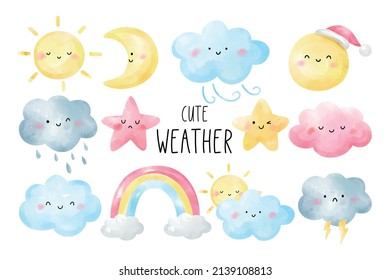cloud: (171, 20, 271, 85), (17, 174, 102, 236), (287, 99, 372, 158), (18, 95, 98, 153), (216, 189, 297, 240), (297, 172, 374, 224), (160, 212, 213, 240), (101, 214, 146, 242)
moon: (287, 33, 352, 93), (100, 26, 159, 92)
rainbow: (109, 165, 201, 215)
star: (101, 95, 161, 153), (231, 97, 291, 152)
sun: (17, 13, 104, 93)
